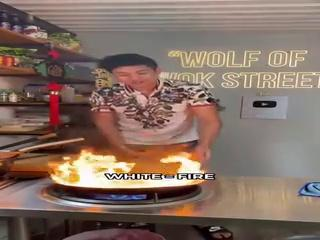Fire: (50, 144, 213, 184)
